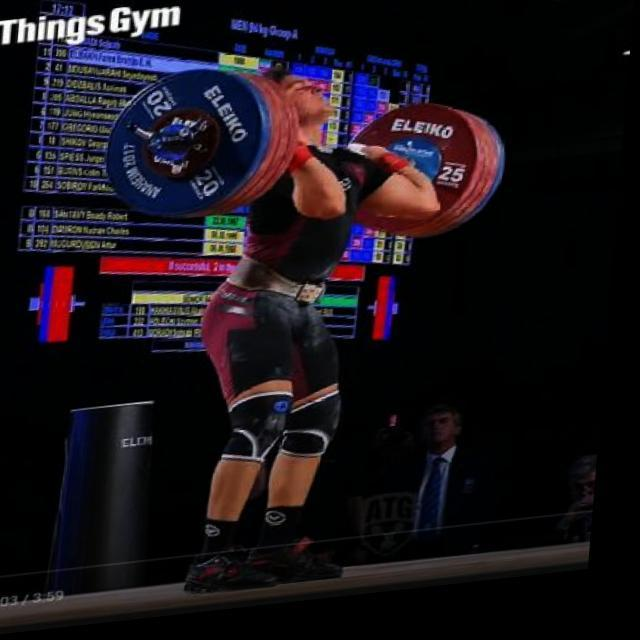barbell: (100, 64, 277, 236)
